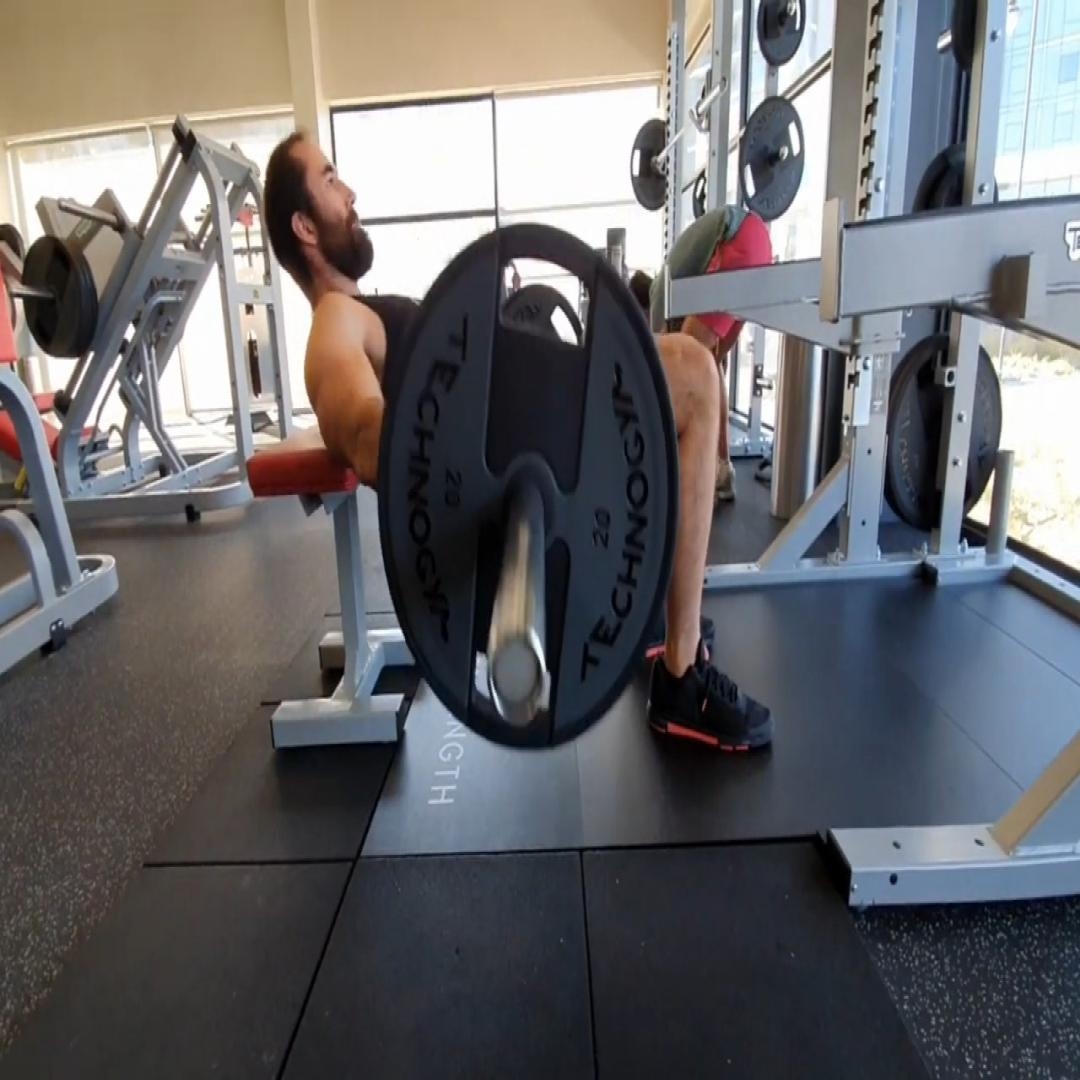Bar: (486, 621, 548, 733)
Barbell: (376, 222, 678, 754)
